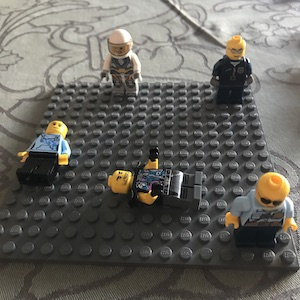Lego: (223, 172, 295, 244), (106, 157, 204, 207), (15, 119, 72, 186), (208, 35, 253, 103), (99, 28, 141, 99)
